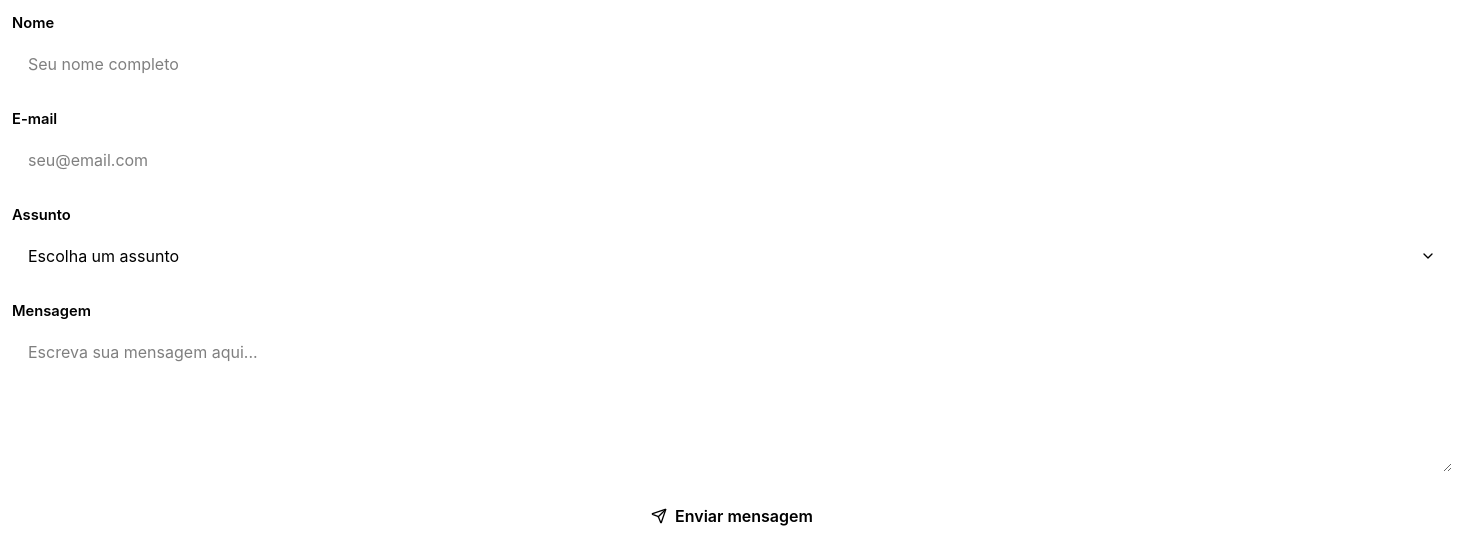
Test case: lista de assunto › clicar fora fecha a lista
The width and height of the screenshot is (1464, 559).
Click the dropdown labelled "assunto" at (104, 256), box 12,232 -> 1452,280
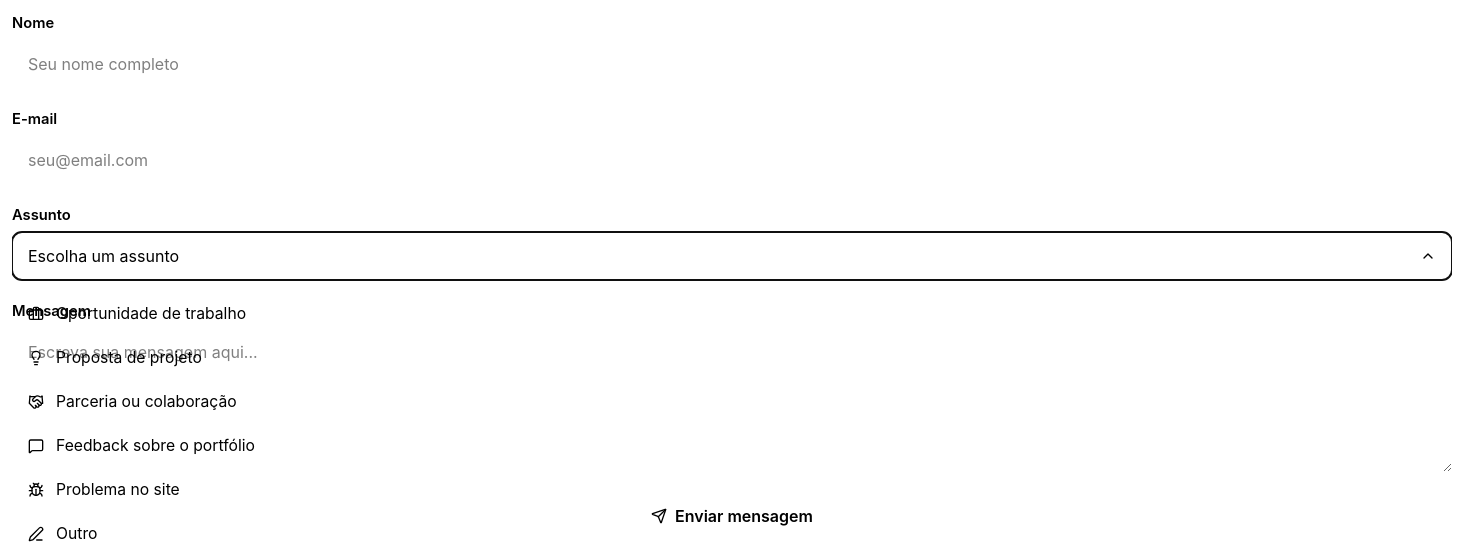
Result: the dropdown labelled "assunto" is expanded at 12,232 -> 1452,280
Click the element that starts with "Nome" at (732, 276), box 12,12 -> 1452,540
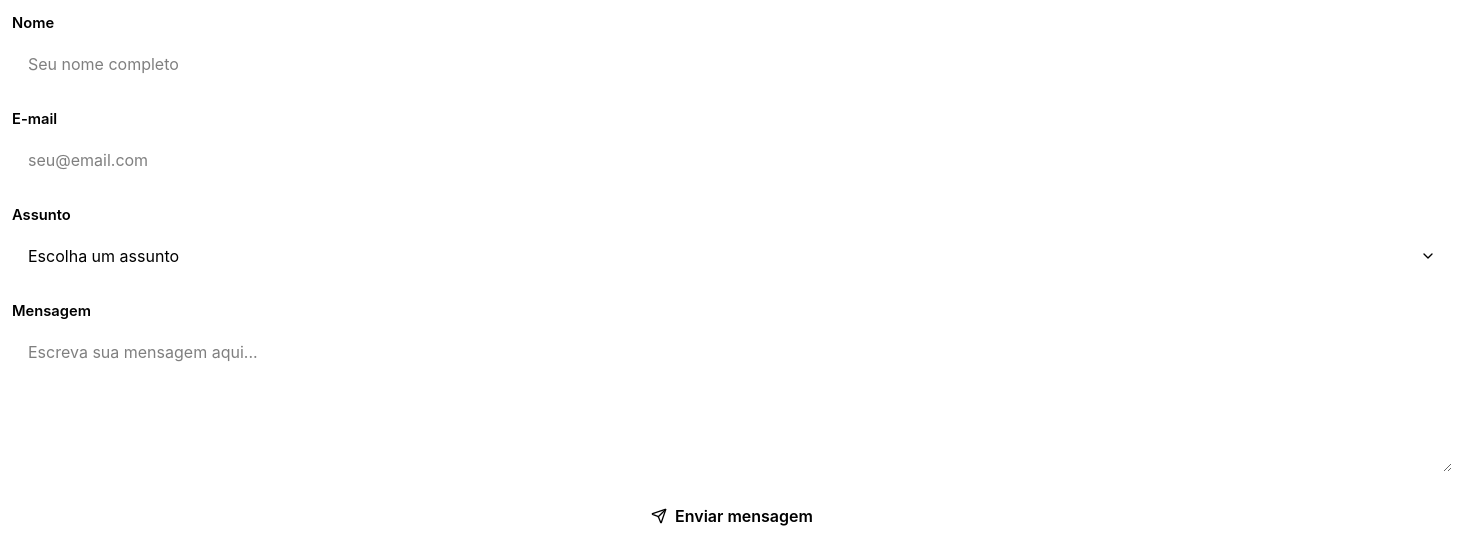
Result: the dropdown labelled "assunto" is collapsed at 12,232 -> 1452,280
